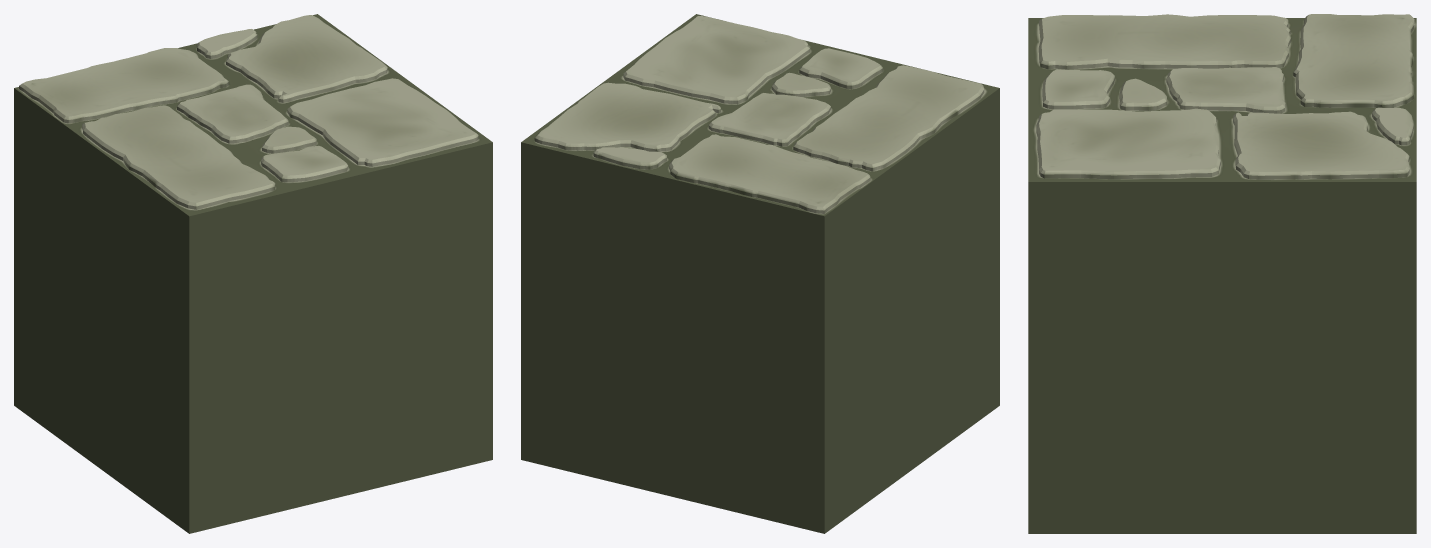
The model's file is mazeblock_floor_tex.fbx.
The picture shows the model from 3 angles, left to right: view 1: azimuth 30°, elevation 25°; view 2: azimuth 150°, elevation 25°; view 3: azimuth 270°, elevation 25°; orthographic projection. The views are drawn at different scales.
Visible parts, largest first — view 1: Cube.001; view 2: Cube.001; view 3: Cube.001.
Part boxes in pixels (x1,y1,x2,y2): Cube.001: (14, 14, 492, 533); Cube.001: (521, 14, 999, 533); Cube.001: (1028, 14, 1416, 533).
Bounding box in the file's own units: 200 × 204 × 200.
